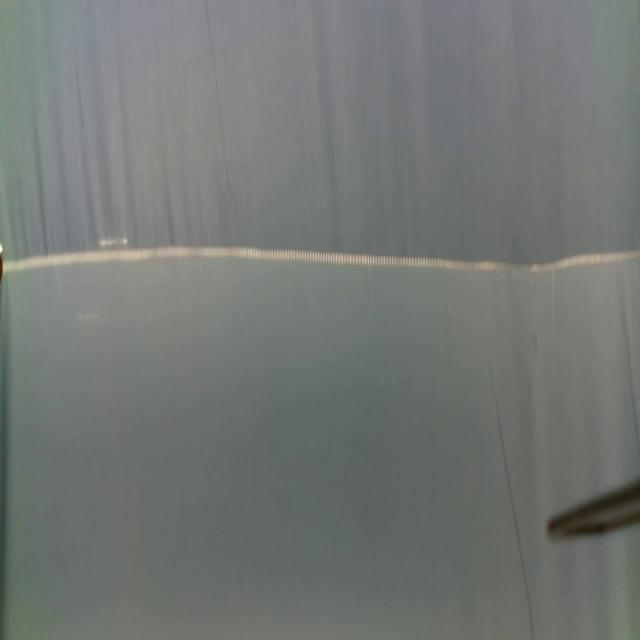crease: (489, 366, 534, 636), (204, 2, 231, 188), (625, 309, 640, 450)
